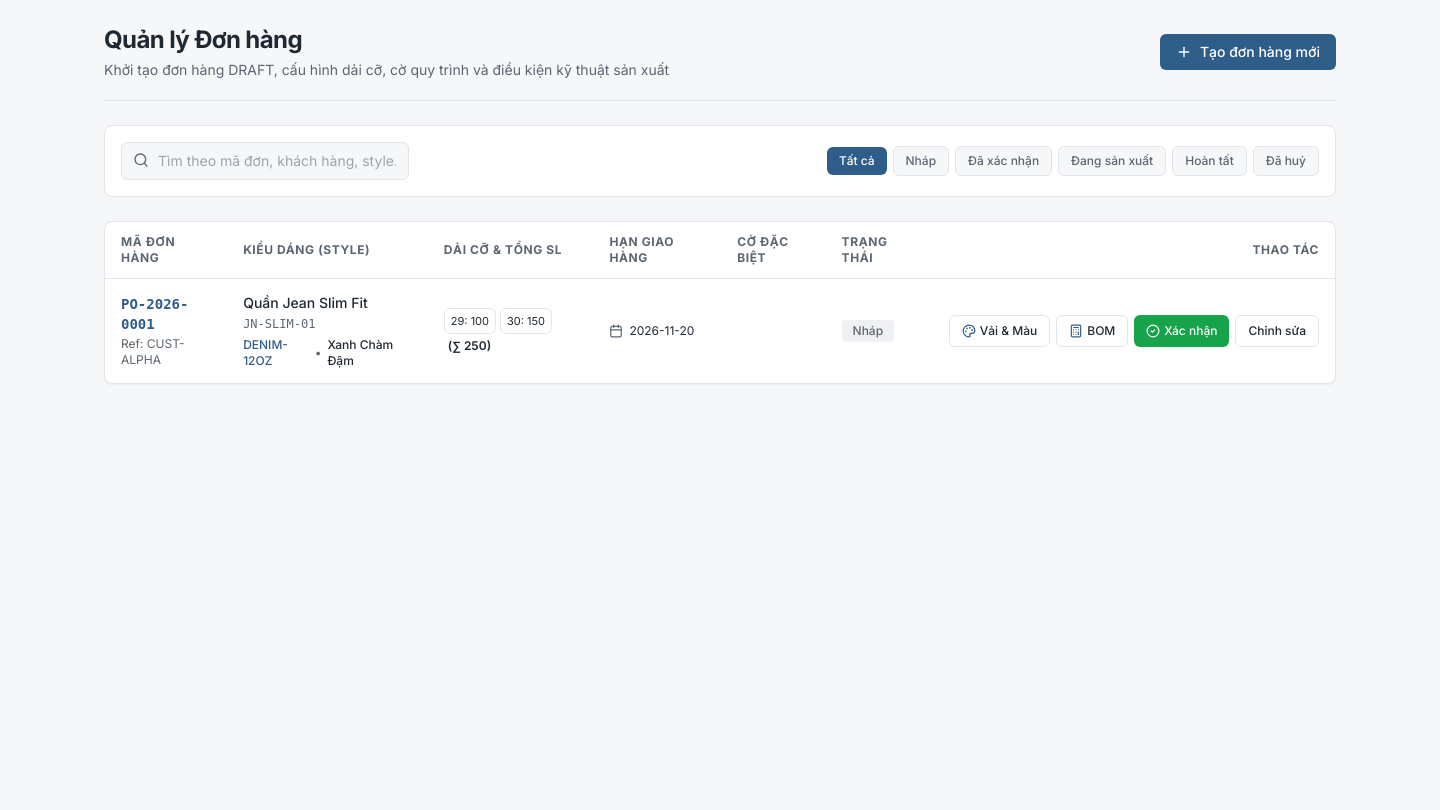
Test: OrdersPage › FR-09: opens BOM modal and displays material lines
Click the button "BOM". click: [1092, 331]
box: [1056,315,1128,347]
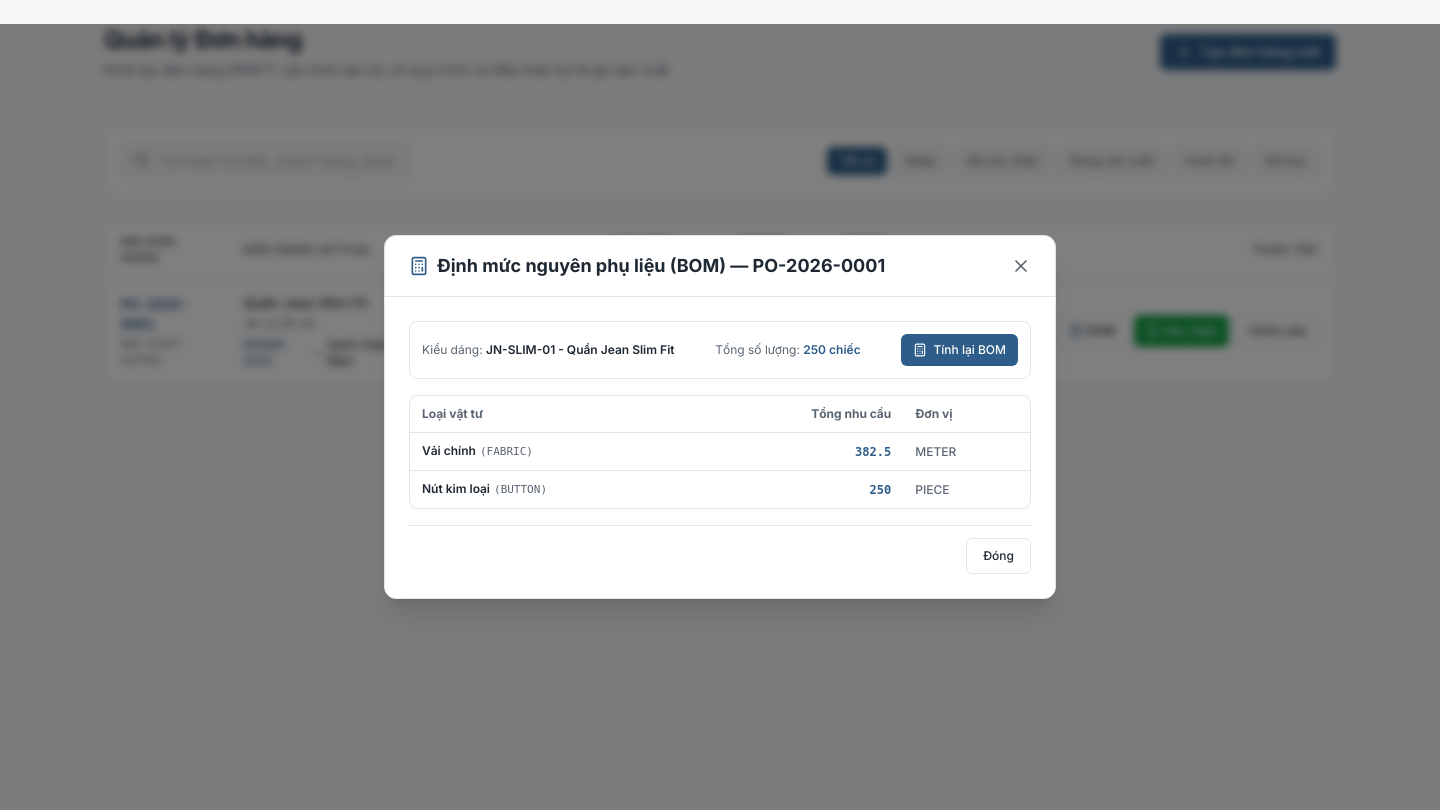
Result: the heading "Định mức nguyên phụ liệu (BOM) — PO-2026-0001" is shown at [437,252,885,280]
Result: the text "Vải chính" is shown at [422,443,476,458]
Result: the text "382.5" is shown at [700,432,903,470]
